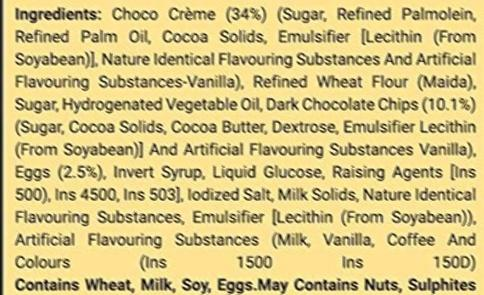ingredients: (10, 4, 484, 294)
